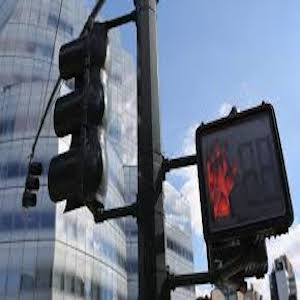red: (205, 146, 239, 218)
